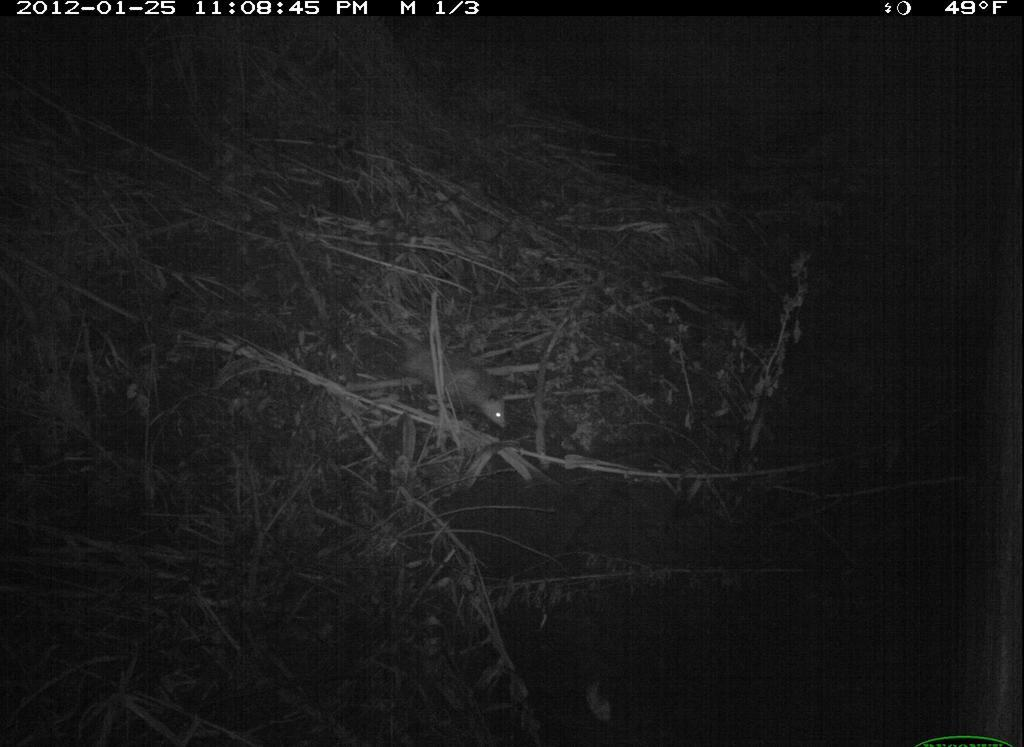opossum: (347, 273, 521, 436)
